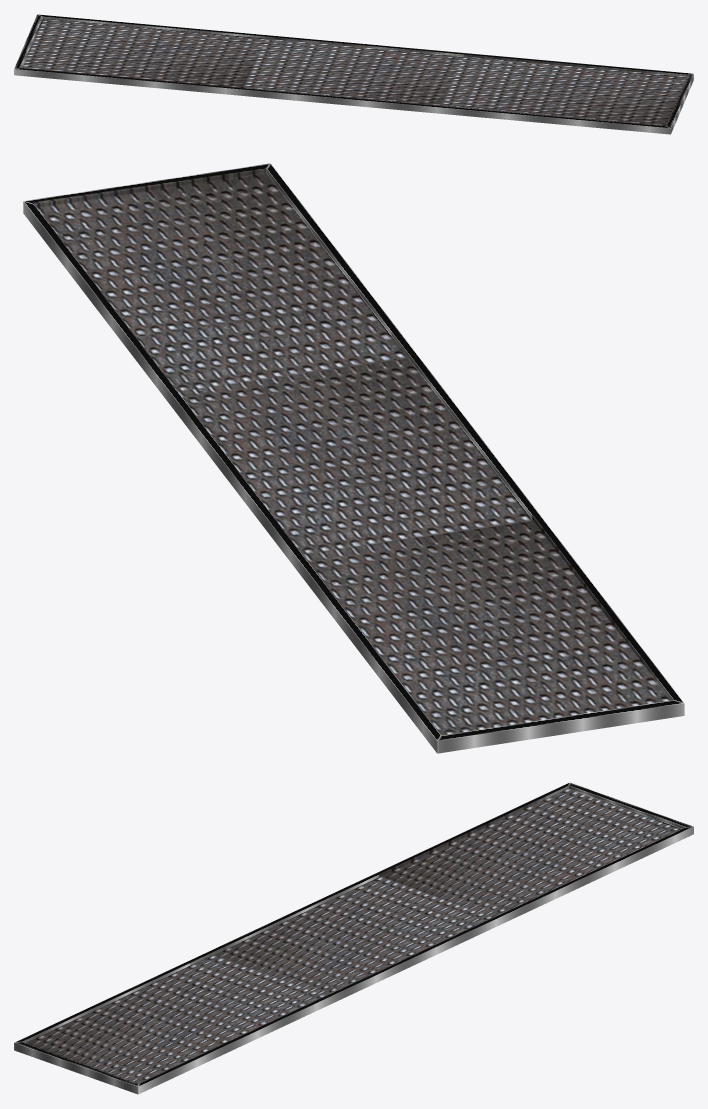
Rendered from tower2-asiba.obj.
3 renders of one model, top to bottom at view 1: azimuth 30°, elevation 25°; view 2: azimuth 150°, elevation 25°; view 3: azimuth 270°, elevation 25°, orthographic. The views are drawn at different scales.
Bounding box in the file's own units: 12.64 × 0.1484 × 11.93.
Materials: 1 (1 with a texture image).
